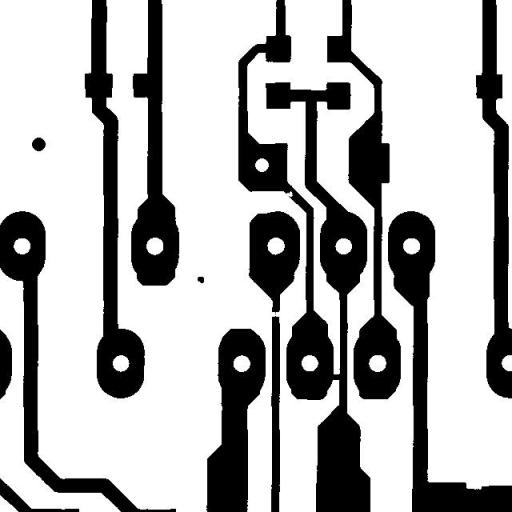copper: (24, 130, 53, 158), (190, 269, 211, 290)
mousebite: (278, 183, 300, 204)
open: (262, 304, 288, 324)
pin-hole: (247, 150, 276, 180)
short: (321, 366, 350, 388)
